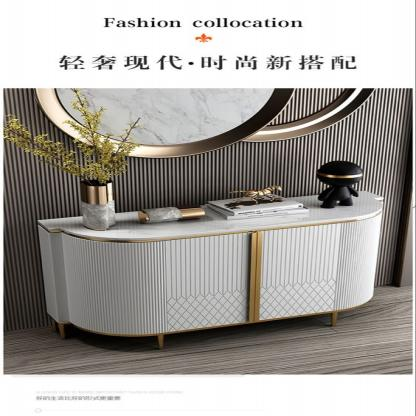Sideboard: (36, 193, 383, 343)
